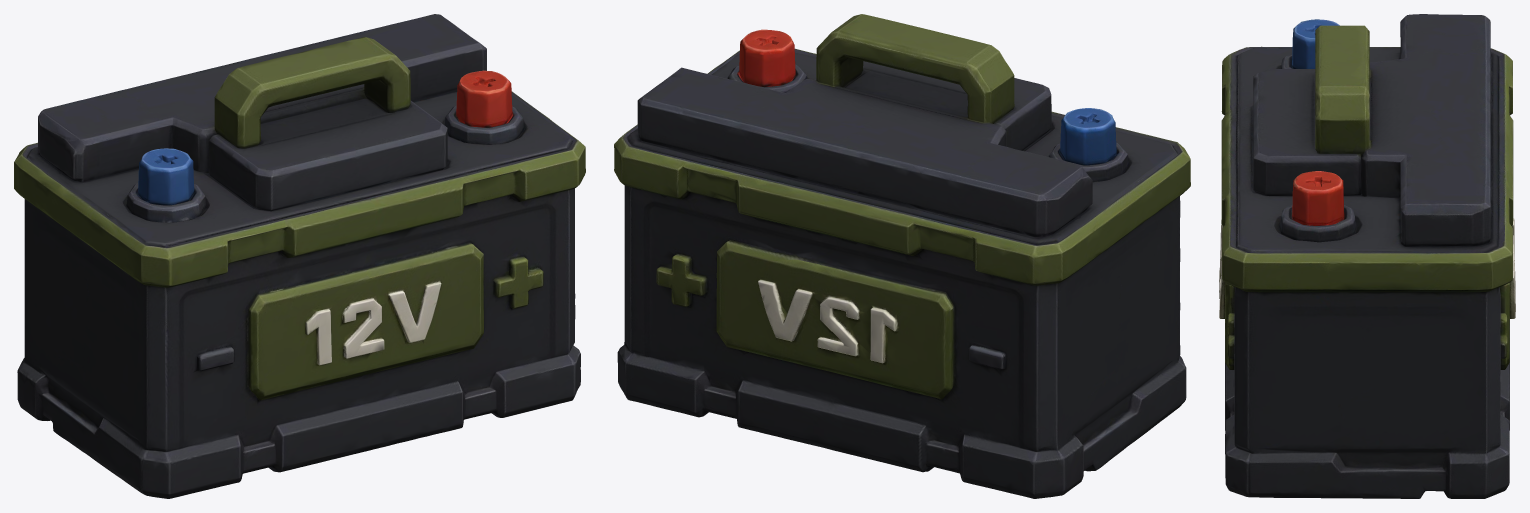
File: car_battery_1k_real.glb
3 renders of one model, left to right at view 1: azimuth 30°, elevation 25°; view 2: azimuth 150°, elevation 25°; view 3: azimuth 270°, elevation 25°, orthographic. The views are drawn at different scales.
Parts seen in each view (by area): view 1: tripo_node_c3de282c-9e2c-49b6-9604-179966f344f7; view 2: tripo_node_c3de282c-9e2c-49b6-9604-179966f344f7; view 3: tripo_node_c3de282c-9e2c-49b6-9604-179966f344f7.
Boxes of the visible parts, x1=… form: tripo_node_c3de282c-9e2c-49b6-9604-179966f344f7: x1=14, y1=14, x2=585, y2=498; tripo_node_c3de282c-9e2c-49b6-9604-179966f344f7: x1=614, y1=14, x2=1190, y2=498; tripo_node_c3de282c-9e2c-49b6-9604-179966f344f7: x1=1219, y1=14, x2=1515, y2=498.
Bounding box in the file's own units: 1 × 0.7488 × 0.5881.
Materials: 1 (1 with a texture image).
